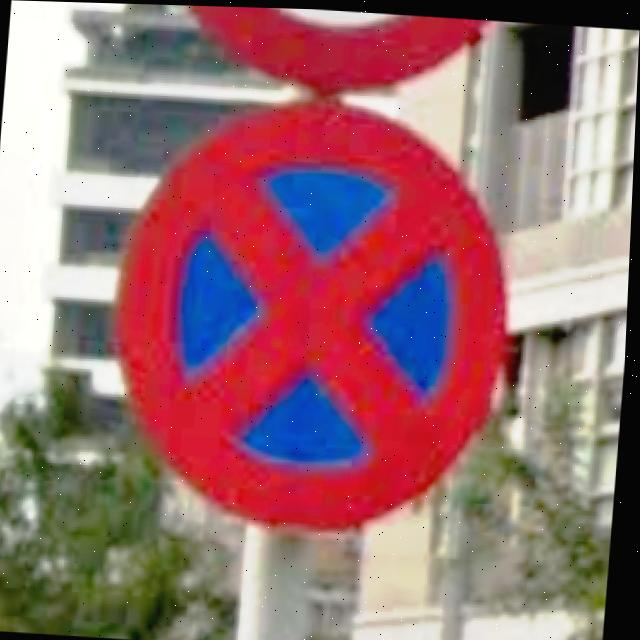nostop: (98, 81, 532, 543)
